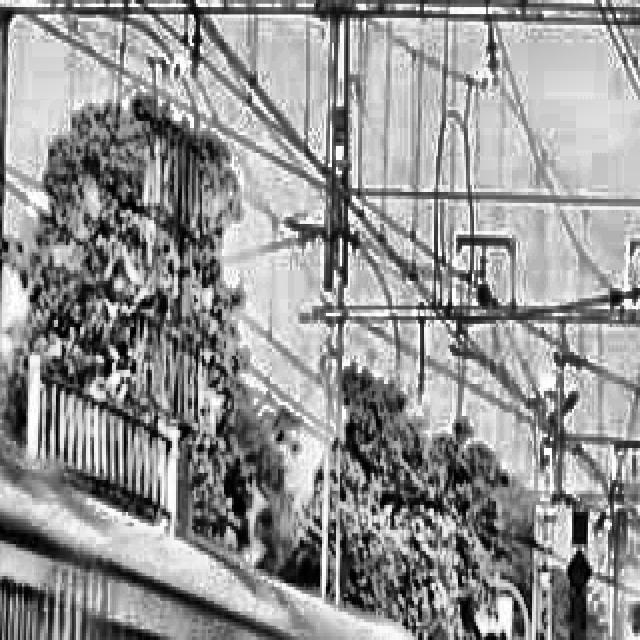Kereta: (42, 458, 288, 640), (0, 234, 64, 640), (264, 572, 430, 640), (412, 633, 524, 640)
